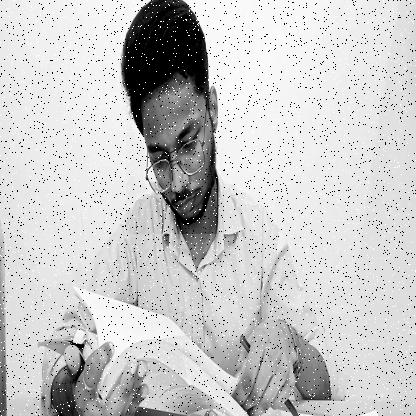Distracted: (126, 0, 224, 234)
